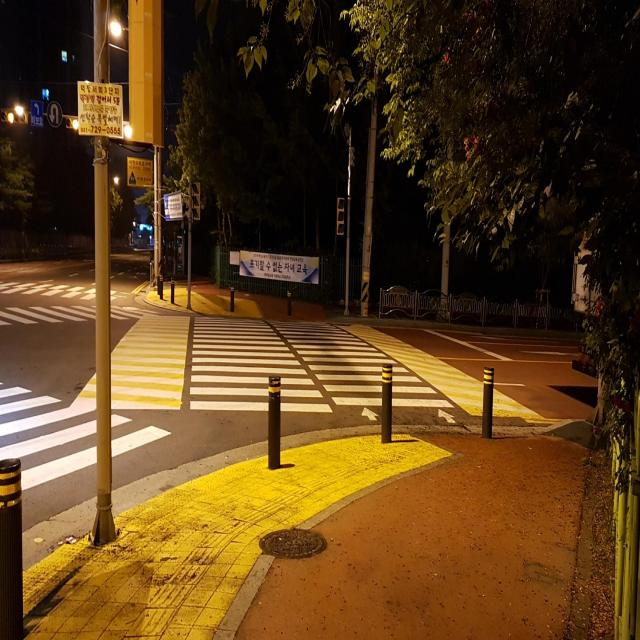횡단보도: (0, 262, 158, 481), (188, 315, 456, 425)
